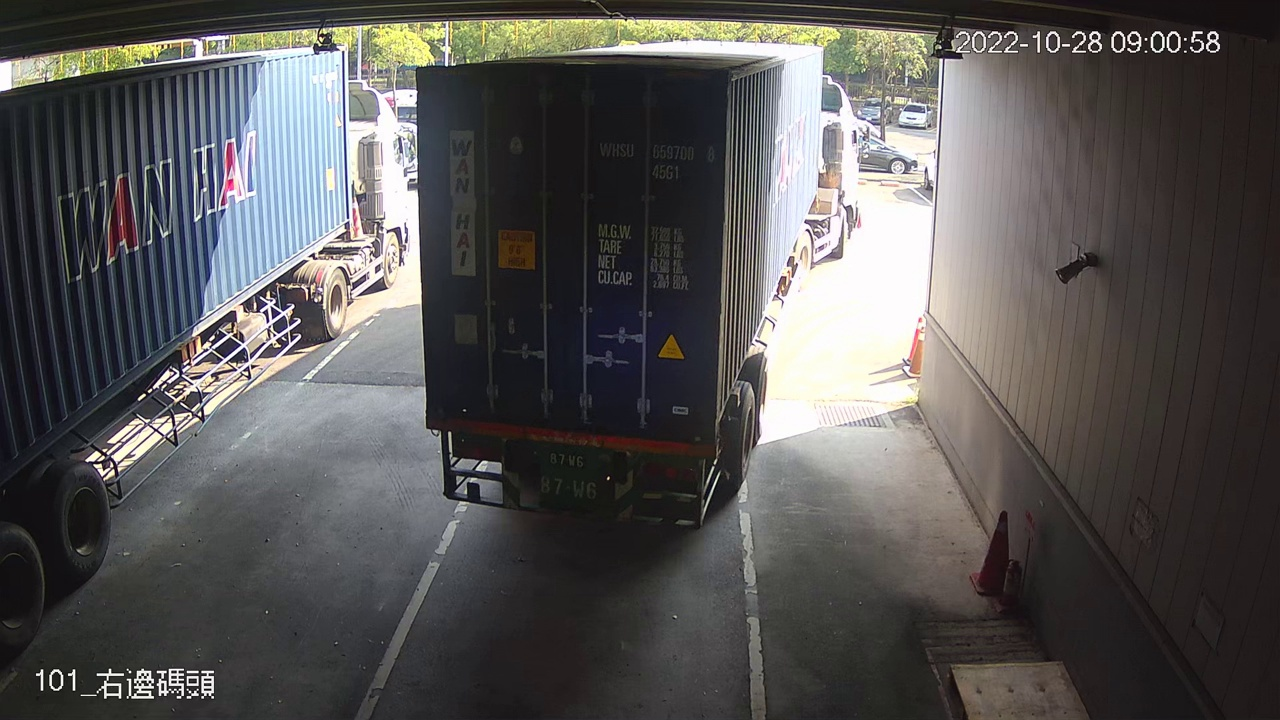container: (592, 135, 720, 182)
